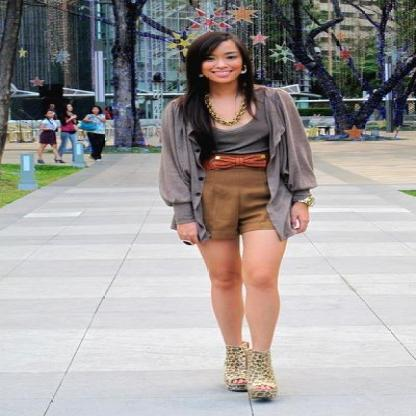shirt: (159, 82, 318, 240)
shoe: (224, 336, 276, 406)
shorts: (190, 169, 274, 246)
